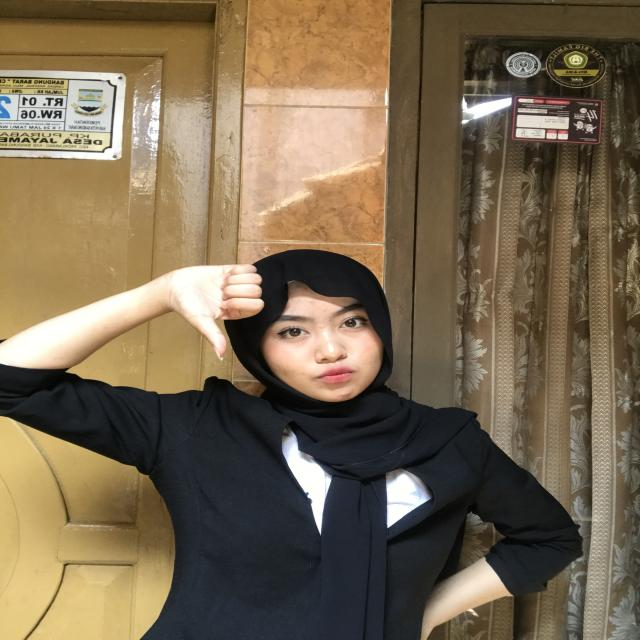sedih: (138, 251, 298, 383)
